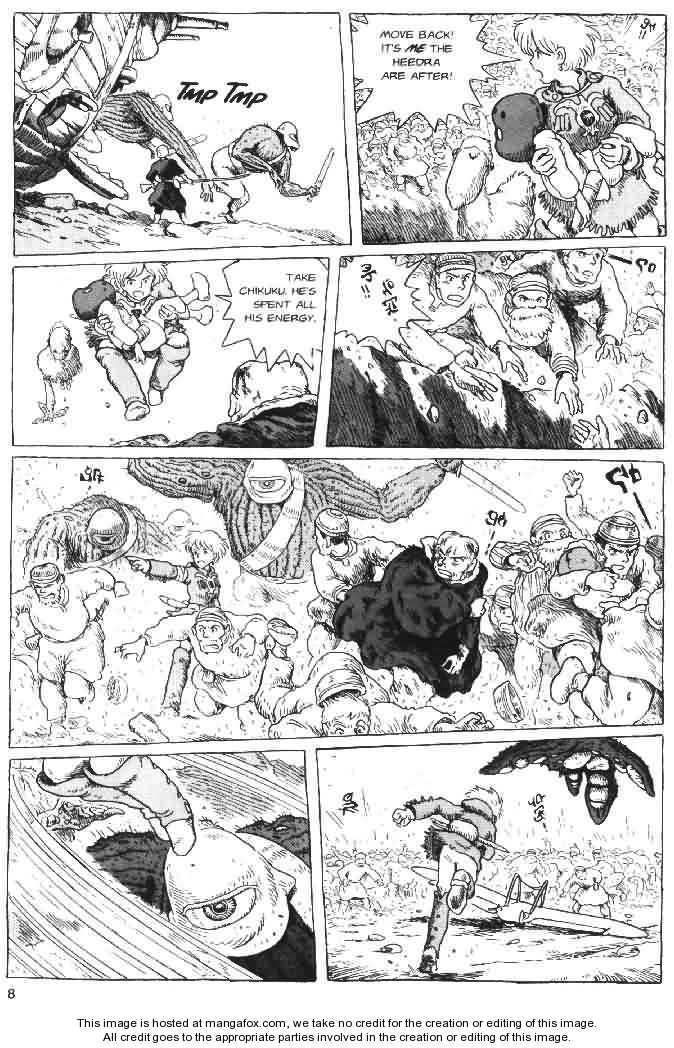Bubble: (348, 12, 521, 133), (214, 256, 331, 374), (336, 254, 435, 359)
